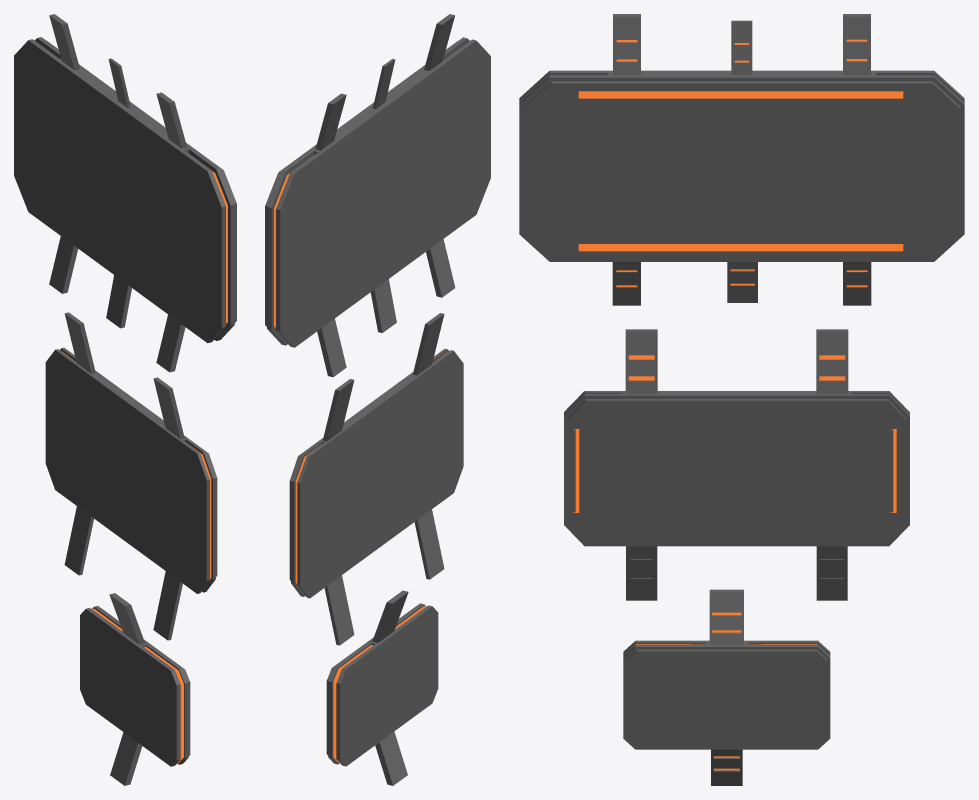
Rendered from WallRunTiles.glb.
3 renders of one model, left to right at view 1: azimuth 30°, elevation 25°; view 2: azimuth 150°, elevation 25°; view 3: azimuth 270°, elevation 25°, orthographic. The views are drawn at different scales.
Visible parts, largest first — view 1: WallRunPanelBig, WallRunPanelMedium, WallRunPanelSmall; view 2: WallRunPanelBig, WallRunPanelMedium, WallRunPanelSmall; view 3: WallRunPanelBig, WallRunPanelMedium, WallRunPanelSmall.
Boxes of the visible parts, x1,y1,x2,y2 form: WallRunPanelBig: [14, 14, 236, 372]; WallRunPanelMedium: [45, 312, 217, 640]; WallRunPanelSmall: [80, 593, 190, 785]; WallRunPanelBig: [265, 14, 490, 377]; WallRunPanelMedium: [289, 313, 463, 645]; WallRunPanelSmall: [326, 590, 438, 785]; WallRunPanelBig: [519, 14, 964, 305]; WallRunPanelMedium: [564, 329, 909, 600]; WallRunPanelSmall: [623, 589, 830, 785].
Bounding box in the file's own units: 0.6087 × 14.91 × 7.84.
